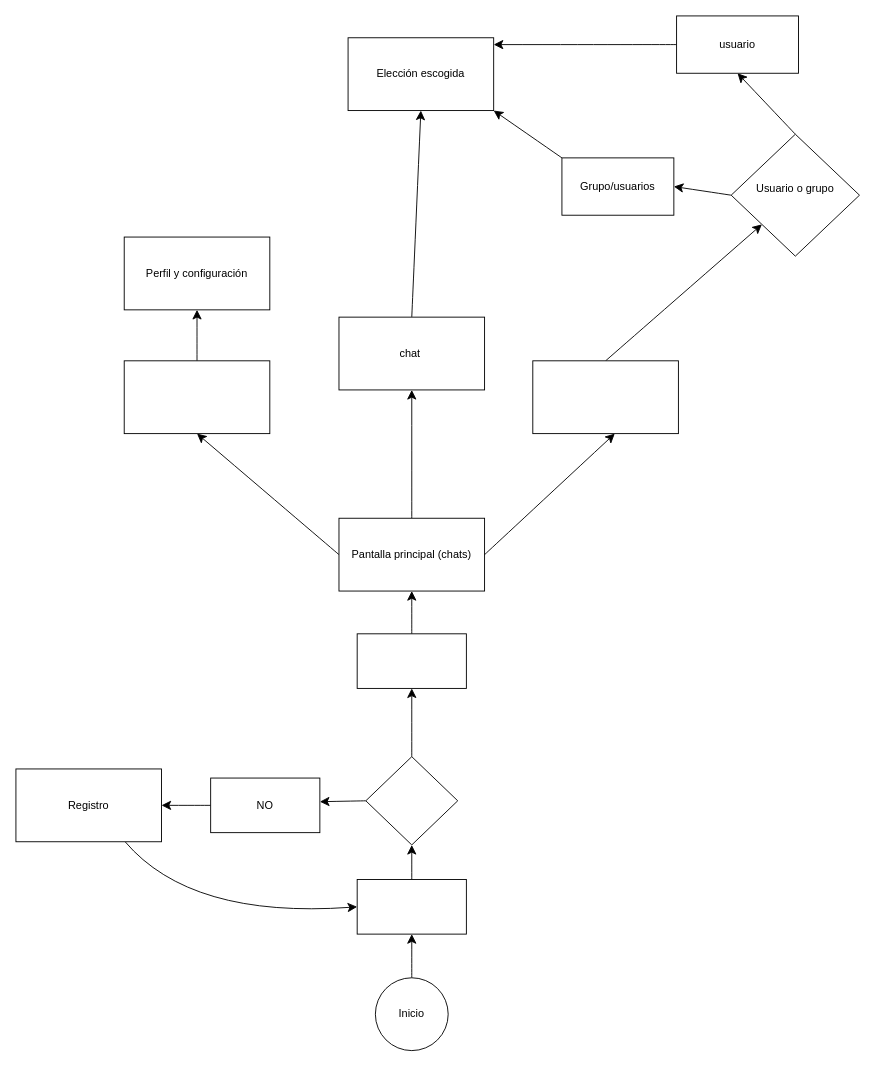
The diagram is 875 pixels wide and 1067 high, and some of its shapes have lost their labels. Here are the shapes that lost their labels. From the top down, the centre of each, then its label:
At point 196,397: "Configuración".
At point 605,397: "Crear nuevo chat".
At point 411,660: "SI".
At point 411,800: "¿Tiene cuenta?".
At point 411,906: "Pantalla de login".
